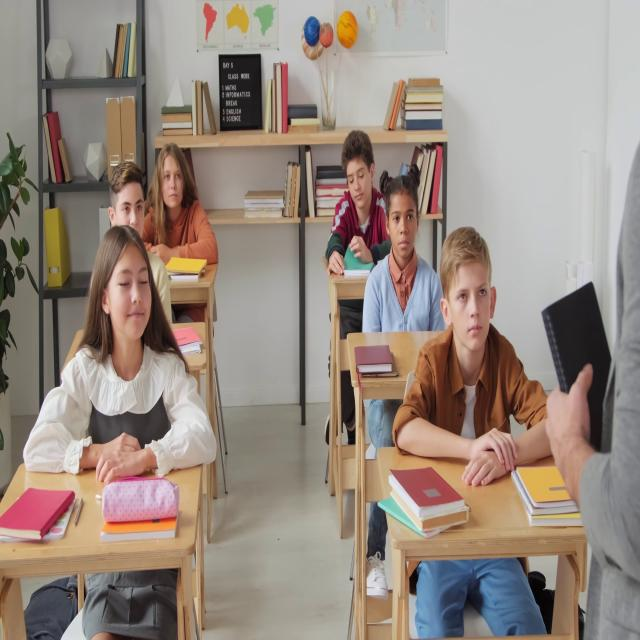listening: (391, 238, 554, 639), (22, 231, 219, 471), (359, 170, 444, 340), (143, 143, 219, 317), (106, 163, 174, 326), (323, 128, 386, 279)
